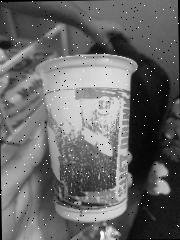plastic: (34, 52, 140, 223)
